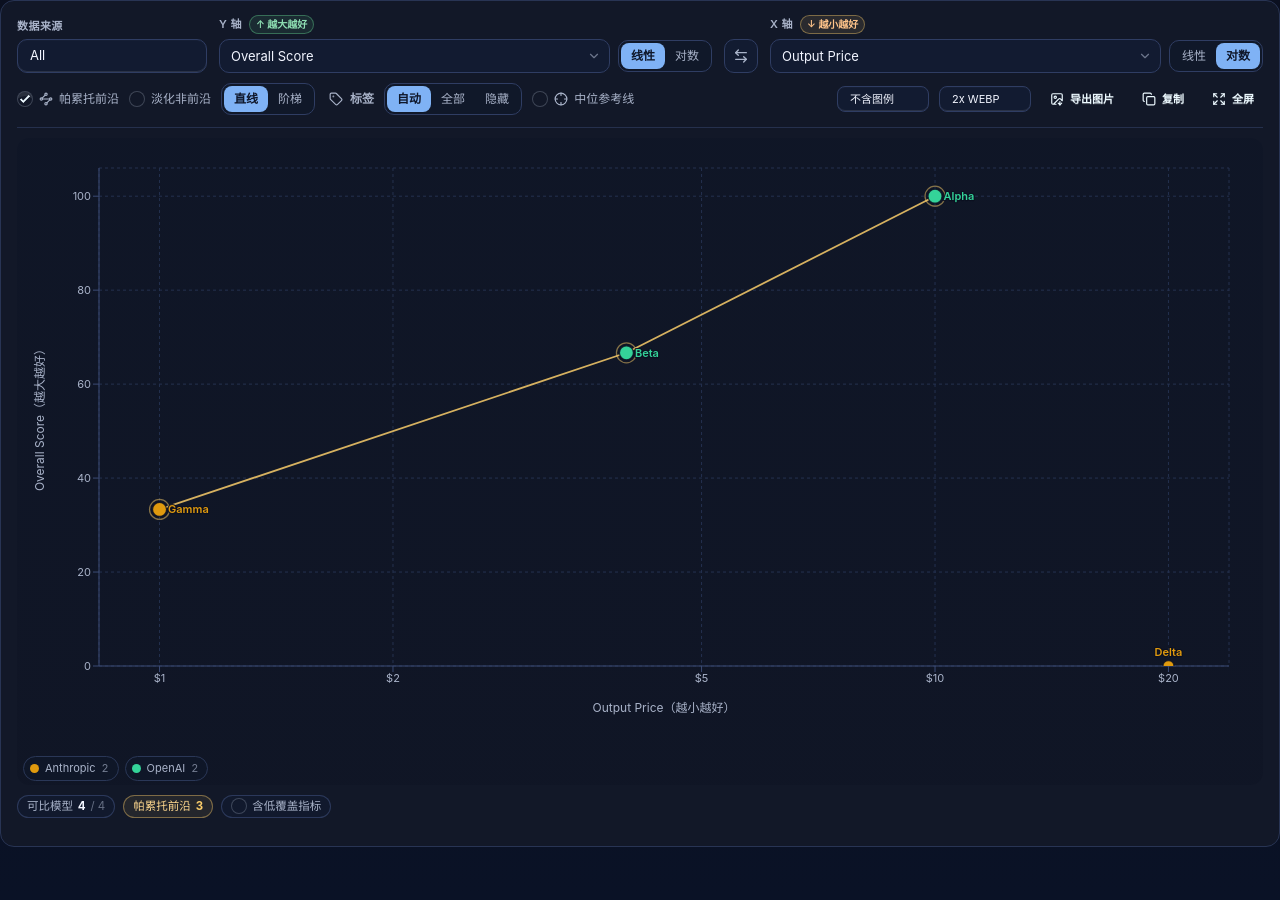
ModelScatter › 图例全部隐藏时给出空态引导
Click the button "OpenAI 2". click: click(166, 768)
box: x1=125 y1=756 x2=208 y2=780
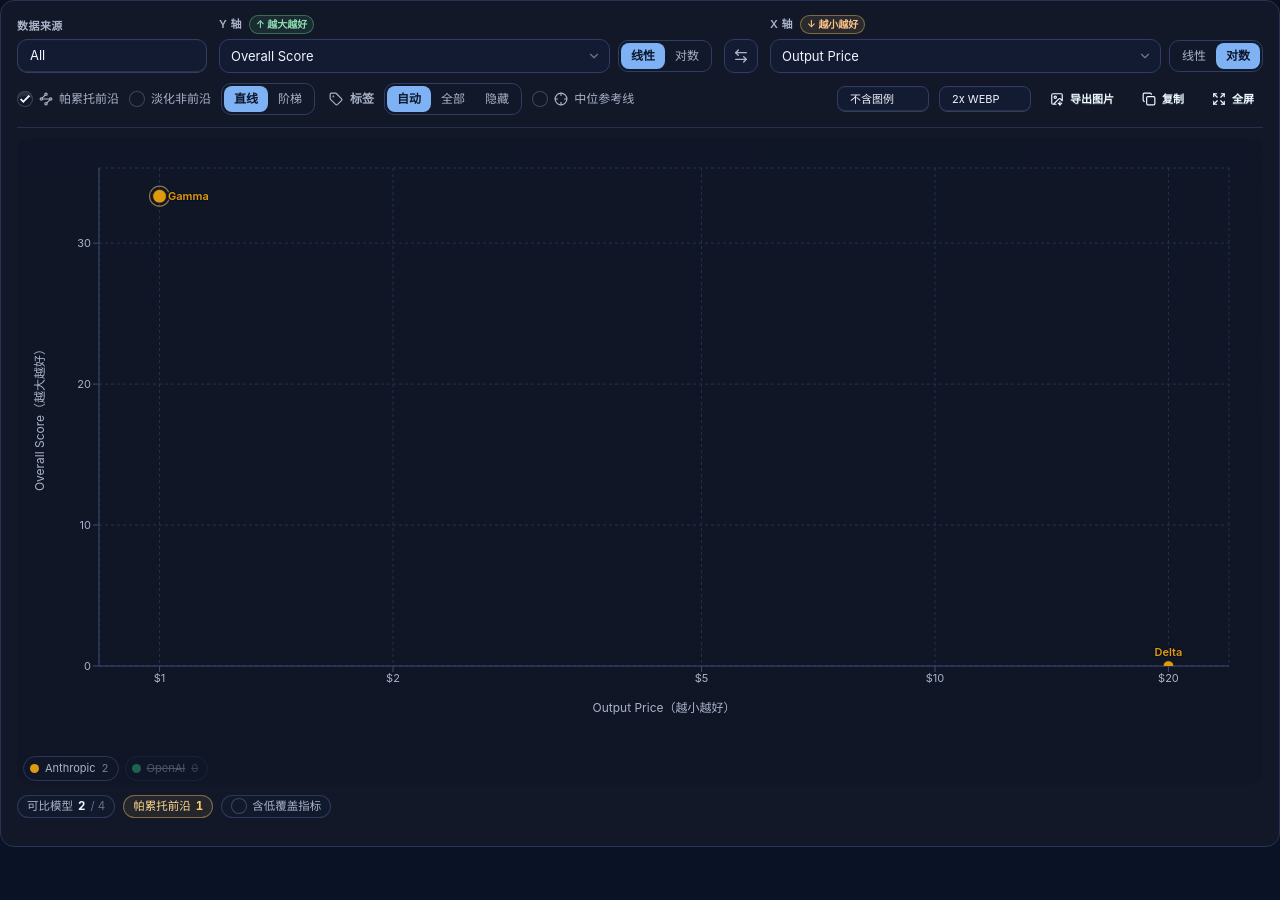
Click the button "Anthropic 2". click: click(71, 768)
box: x1=23 y1=756 x2=119 y2=780
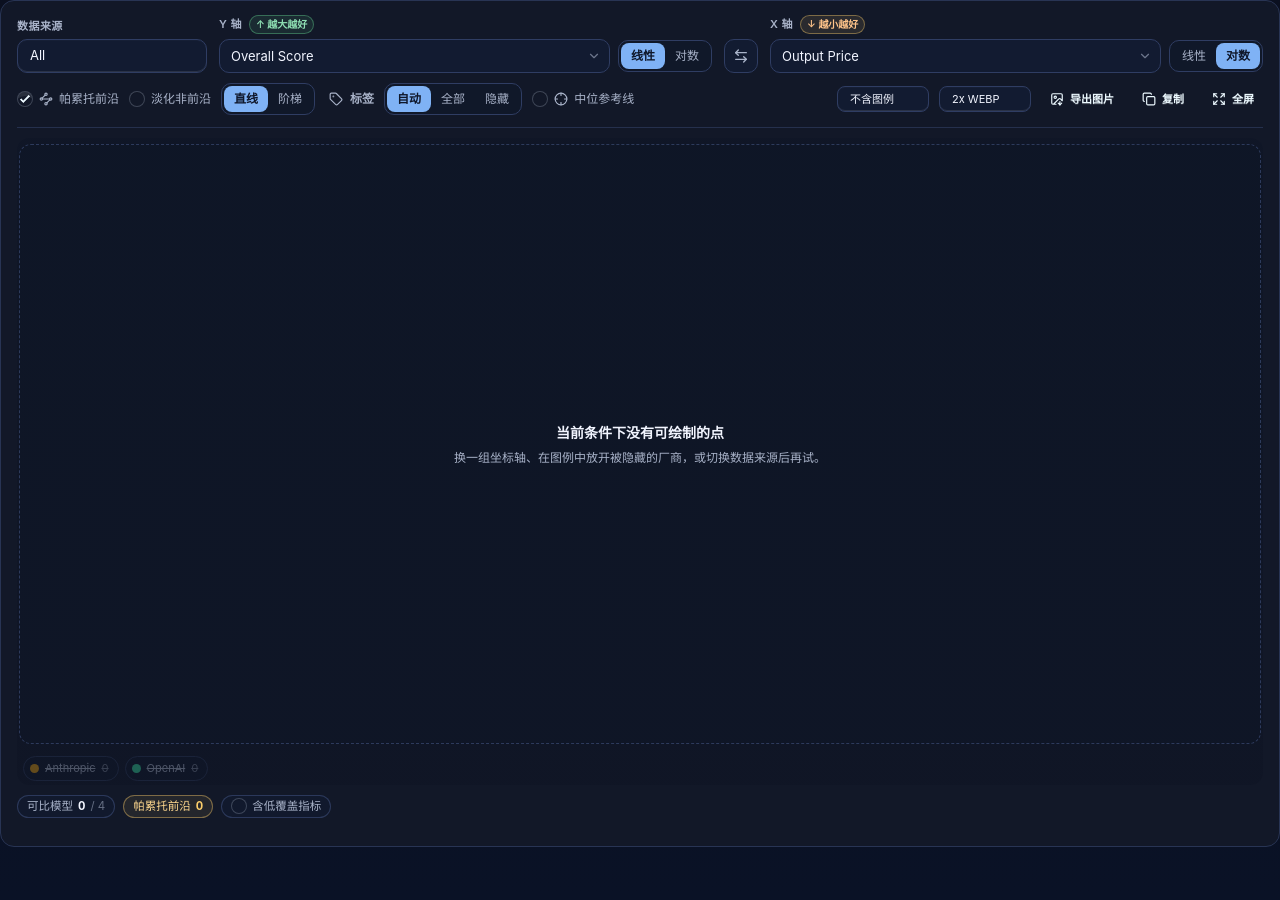
Expected: the text "当前条件下没有可绘制的点" is shown, x1=556 y1=422 x2=724 y2=442
